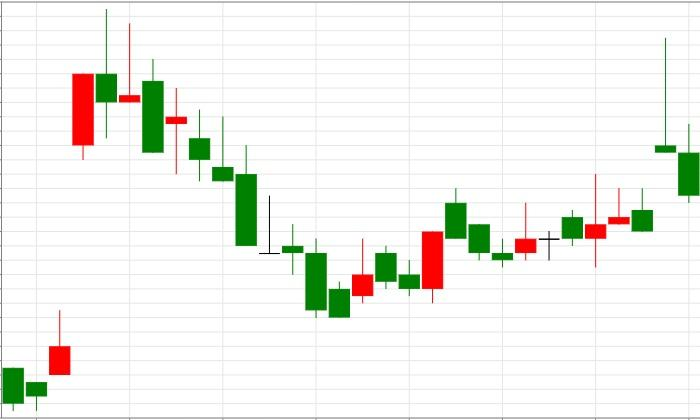inverse_hammer_rise: (189, 109, 374, 318)
